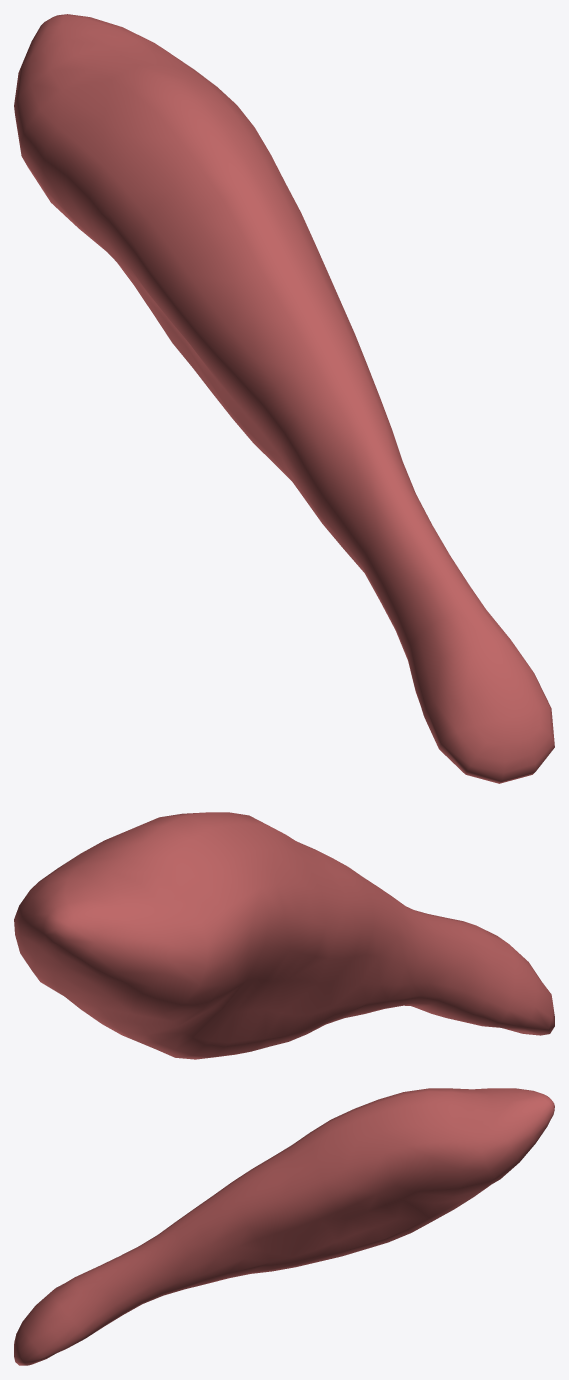
Rendered from Tongue.glb.
The picture shows the model from 3 angles, top to bottom: view 1: azimuth 30°, elevation 25°; view 2: azimuth 150°, elevation 25°; view 3: azimuth 270°, elevation 25°; orthographic projection. The views are drawn at different scales.
Visible parts, largest first — view 1: Tongue.glb; view 2: Tongue.glb; view 3: Tongue.glb.
Part boxes in pixels (x1,y1,x2,y2): Tongue.glb: (14, 14, 554, 783); Tongue.glb: (14, 812, 554, 1059); Tongue.glb: (14, 1088, 554, 1365).
Bounding box in the file's own units: 0.0826 × 0.1959 × 0.3603.
Materials: 1 (1 with a texture image).
